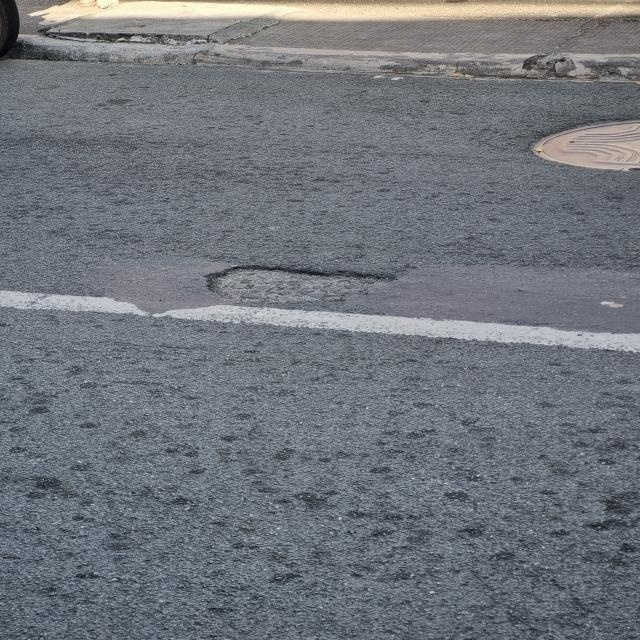pothole: (194, 208, 420, 342)
